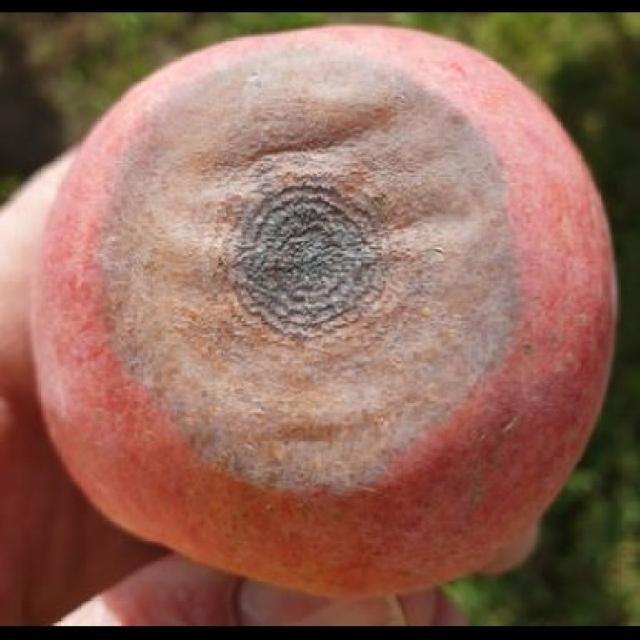Rotten Apple: (24, 23, 618, 597)
